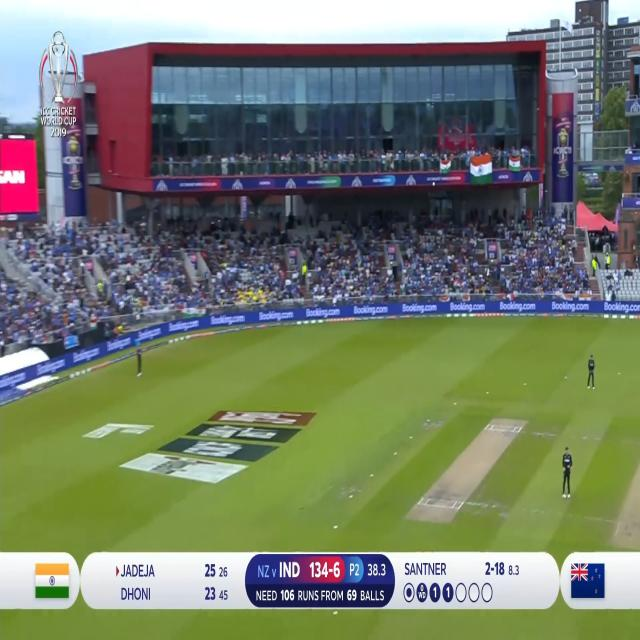ball: (429, 177, 439, 190)
